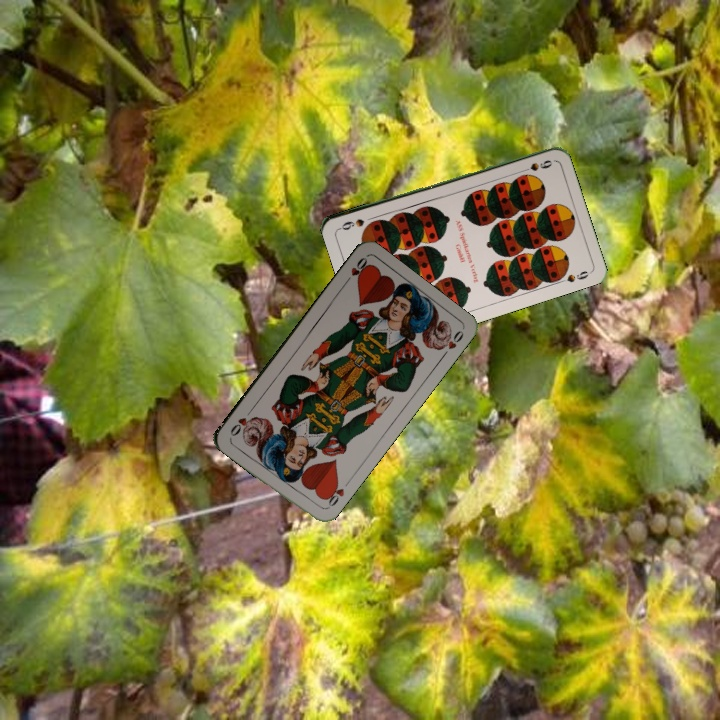HO: (320, 477, 352, 512), (340, 253, 371, 288)
S9: (515, 156, 555, 175)
